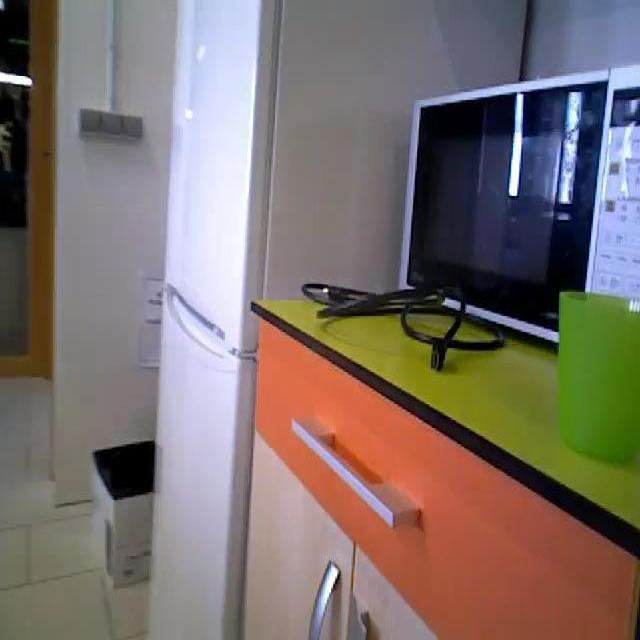cup: (559, 284, 640, 472)
